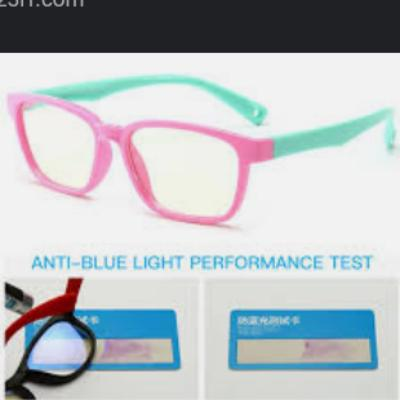glasses: (6, 72, 399, 237)
